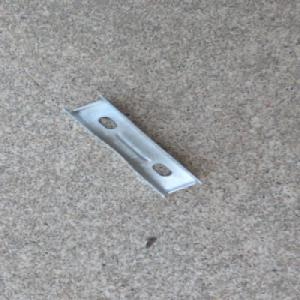ClampPart: (60, 93, 204, 198)
